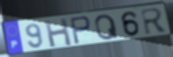6: (120, 11, 141, 38)
9: (25, 23, 44, 49)
H: (44, 17, 74, 48)
P: (69, 15, 93, 46)
Q: (94, 13, 120, 41)
R: (140, 7, 169, 36)
